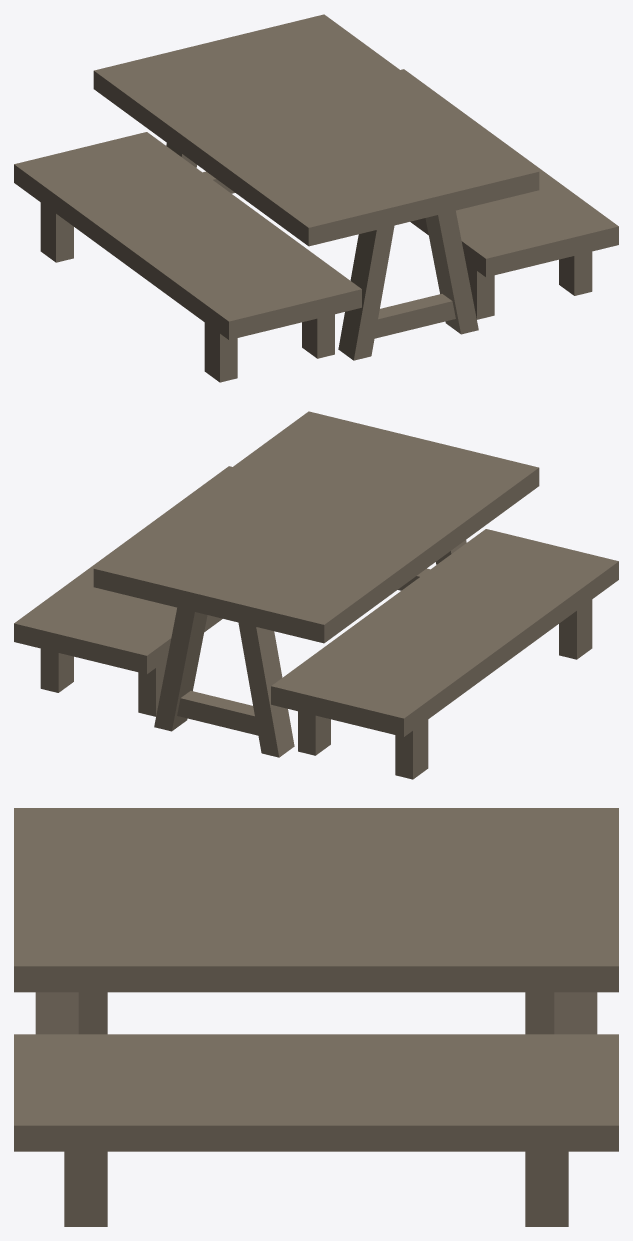
The model's file is tablePicnic.fbx.
The picture shows the model from 3 angles, top to bottom: view 1: azimuth 30°, elevation 25°; view 2: azimuth 150°, elevation 25°; view 3: azimuth 270°, elevation 25°; orthographic projection. The views are drawn at different scales.
Visible parts, largest first — view 1: tablePicnic; view 2: tablePicnic; view 3: tablePicnic.
Part boxes in pixels (box(x1,y1,x2,y2)): tablePicnic: box(14, 14, 618, 382); tablePicnic: box(14, 411, 618, 779); tablePicnic: box(14, 808, 618, 1226).
Size of the model in its own units: 440 by 163 by 420.
